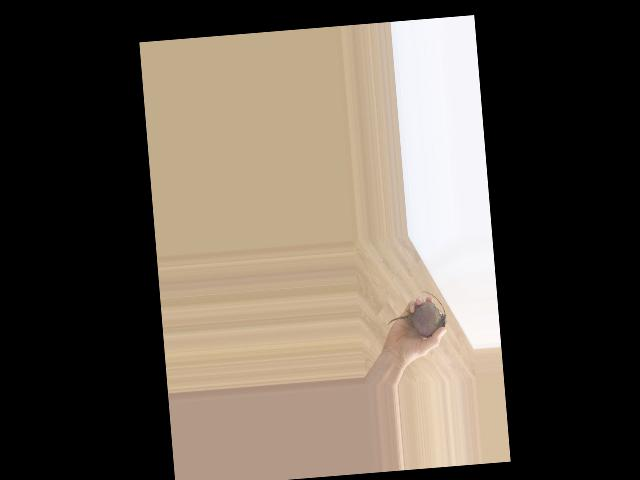beet: (385, 288, 448, 340)
